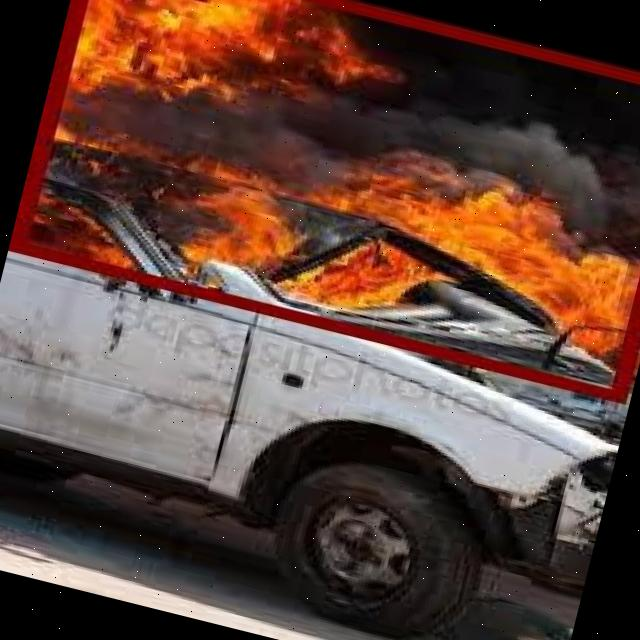fire: (9, 0, 640, 398)
